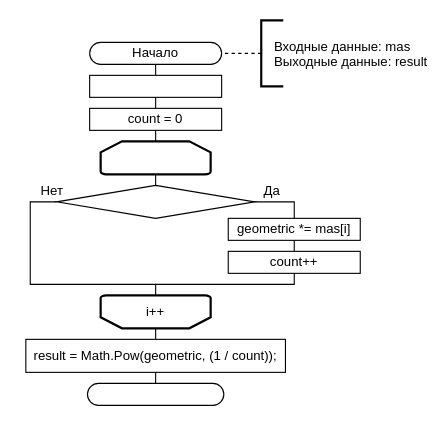
Some shapes in this 448 by 425 pixel diagram are drawn without their labels. Each missing label, with the centre of its shape:
"geometric = 1.0" goes at point 155,85.
"i = 0; mas.Length" goes at point 155,157.
"mas[i] % 2 == 0" goes at point 155,201.
"Конец" goes at point 155,393.
